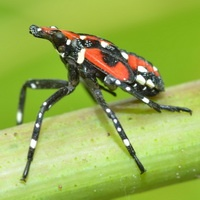insect: (16, 25, 191, 181)
